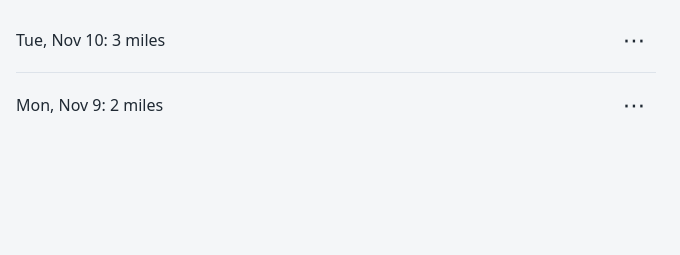
Scenario: RunList › has only one menu open at a time
Click the button named "Actions for Mon, Nov 9 run" at {"x": 634, "y": 105}, box top-left (612, 83), bottom-right (656, 127)
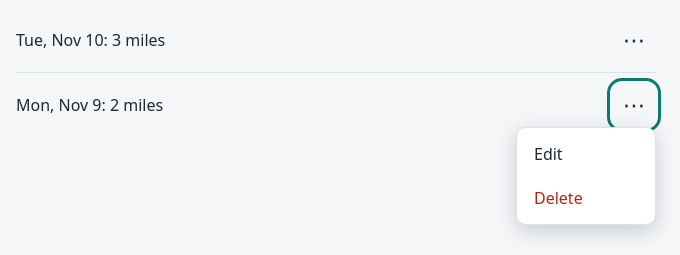
Click the button "⋯" in the row of "Tue, Nov 10: 3 miles" at {"x": 634, "y": 40}, box top-left (612, 18), bottom-right (656, 62)
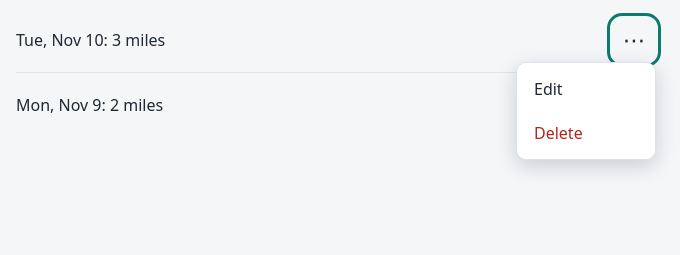
Expected: the number of menu items is 2, top-left (521, 67), bottom-right (651, 111); top-left (521, 111), bottom-right (651, 155)
Expected: the menu item with aria-label "Edit Tue, Nov 10 run" is shown, top-left (521, 67), bottom-right (651, 111)
